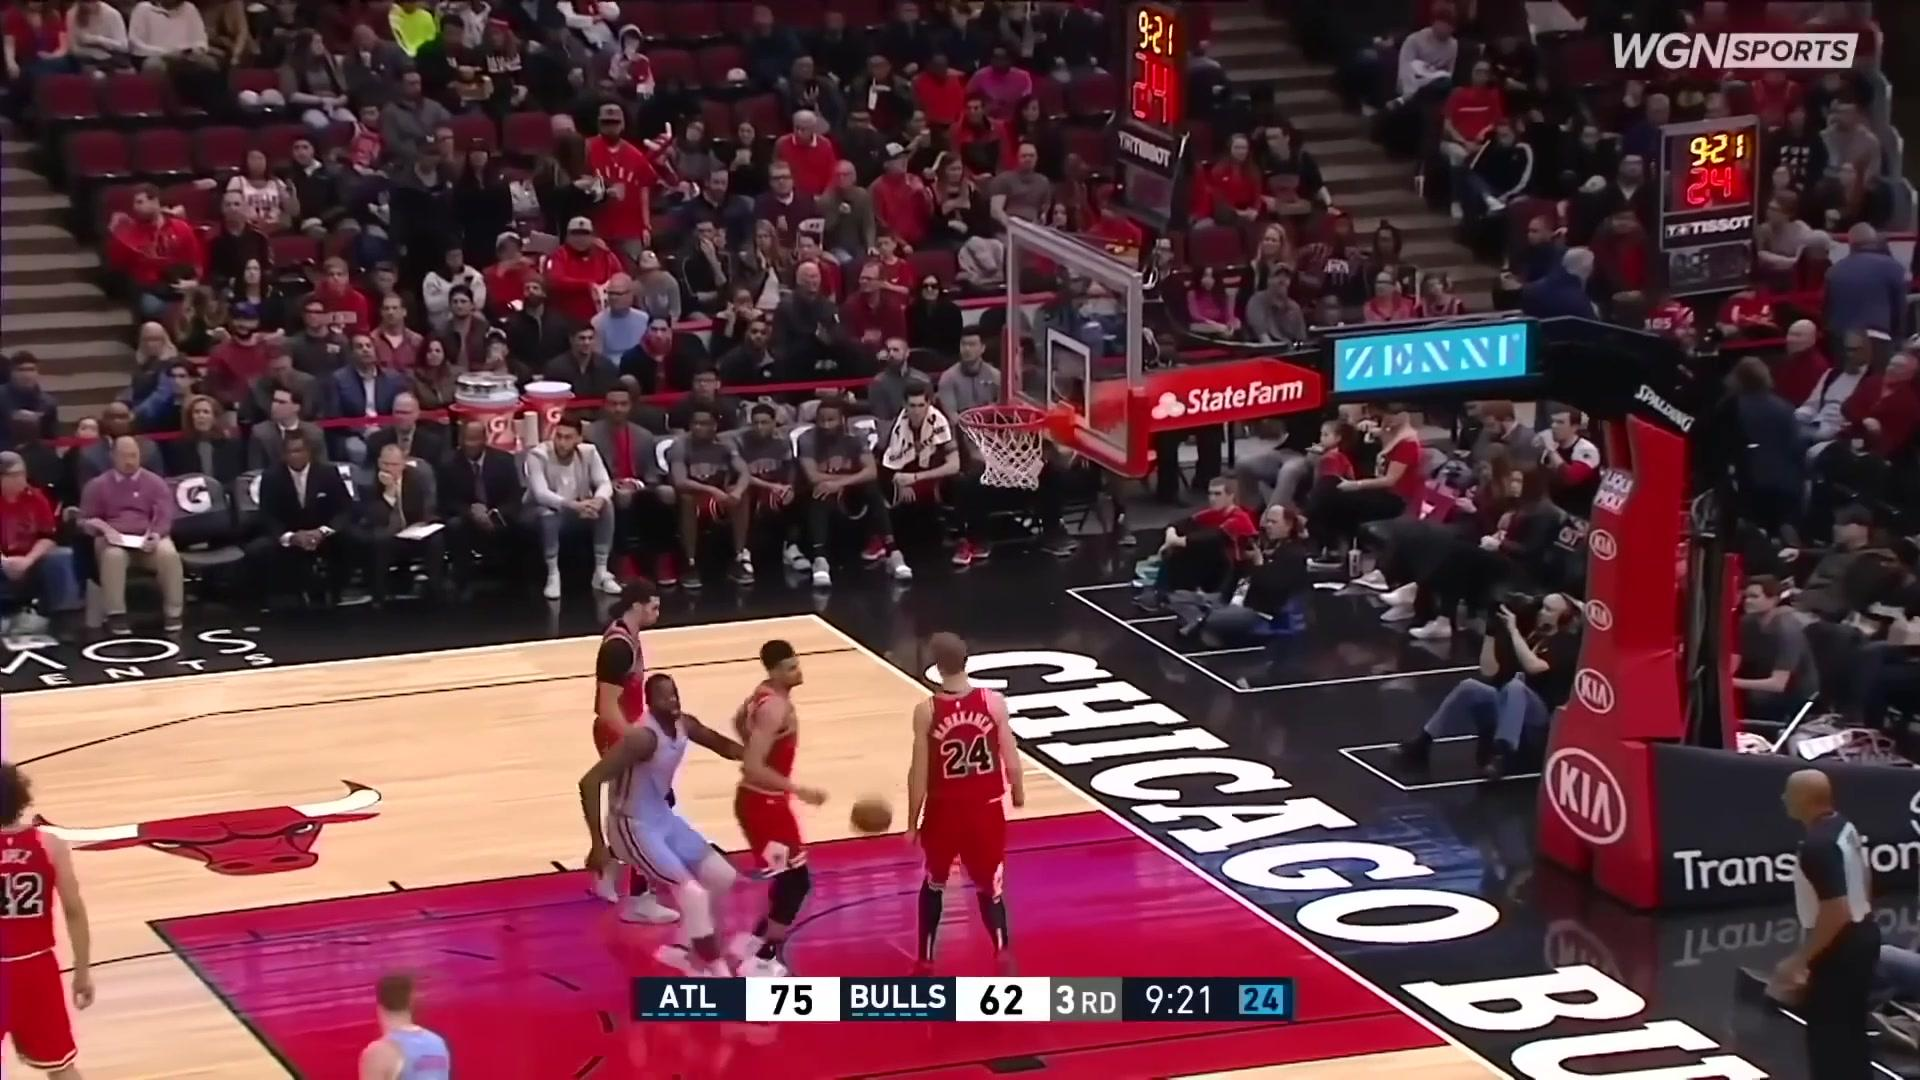no_foul: (539, 624, 824, 977)
